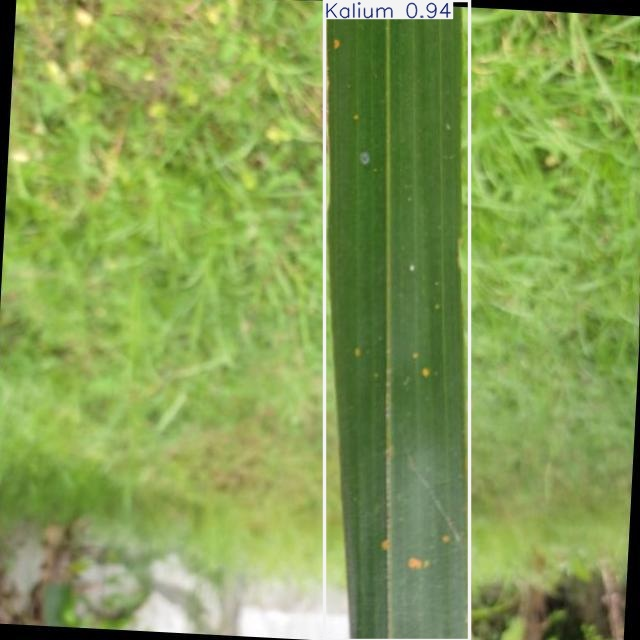Kalium: (325, 0, 470, 640)
